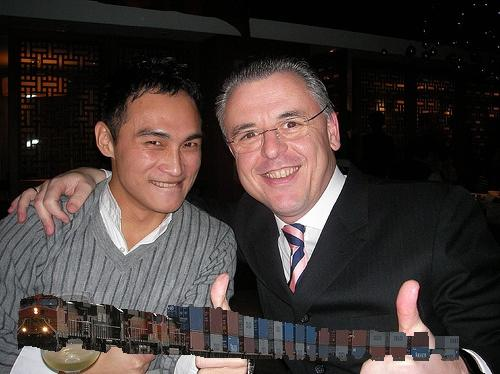tampered: (18, 295, 459, 361)
